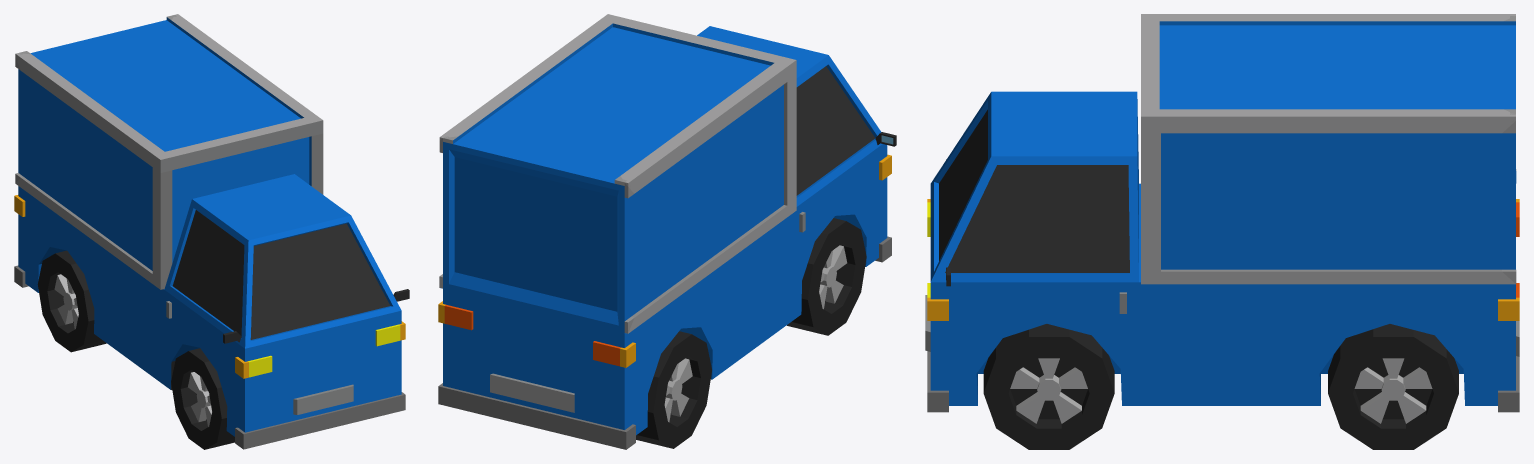
The model's file is CargoVehicle.fbx.
3 renders of one model, left to right at view 1: azimuth 30°, elevation 25°; view 2: azimuth 150°, elevation 25°; view 3: azimuth 270°, elevation 25°, orthographic. The views are drawn at different scales.
Visible parts, largest first — view 1: Cube; view 2: Cube; view 3: Cube.
Boxes of the visible parts, x1,y1,x2,y2 form: Cube: (14,14,409,449); Cube: (438,14,896,449); Cube: (925,14,1519,449).
Size of the model in its own units: 364 by 486 by 785.
Materials: 1 (1 with a texture image).
